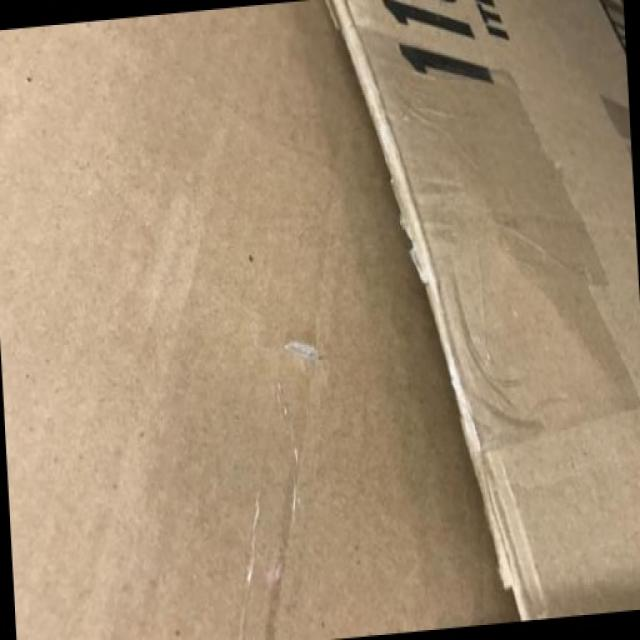carton: (43, 73, 556, 595)
